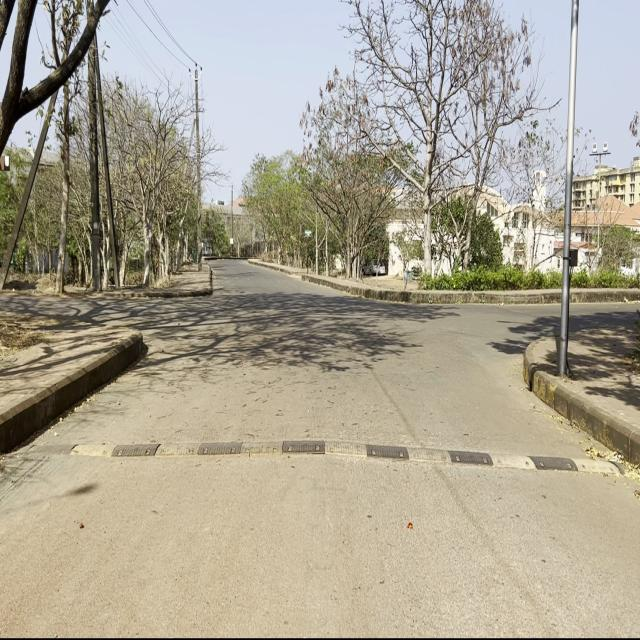Road: (3, 264, 635, 634)
